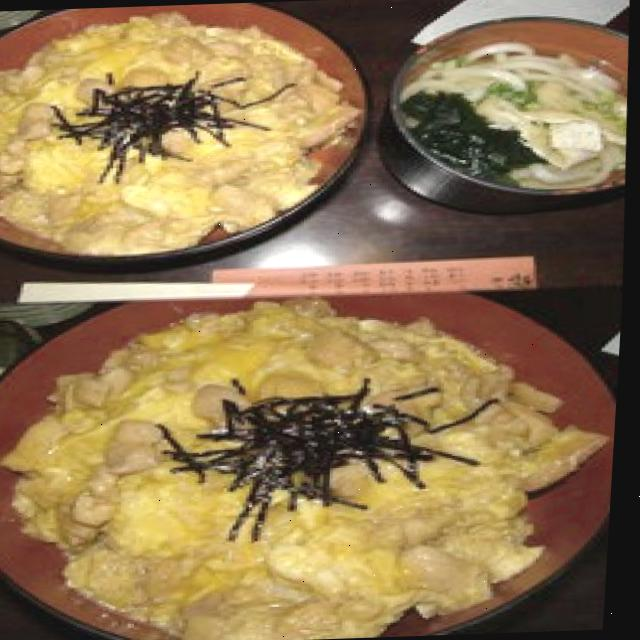米饭主食: (0, 268, 628, 640)
